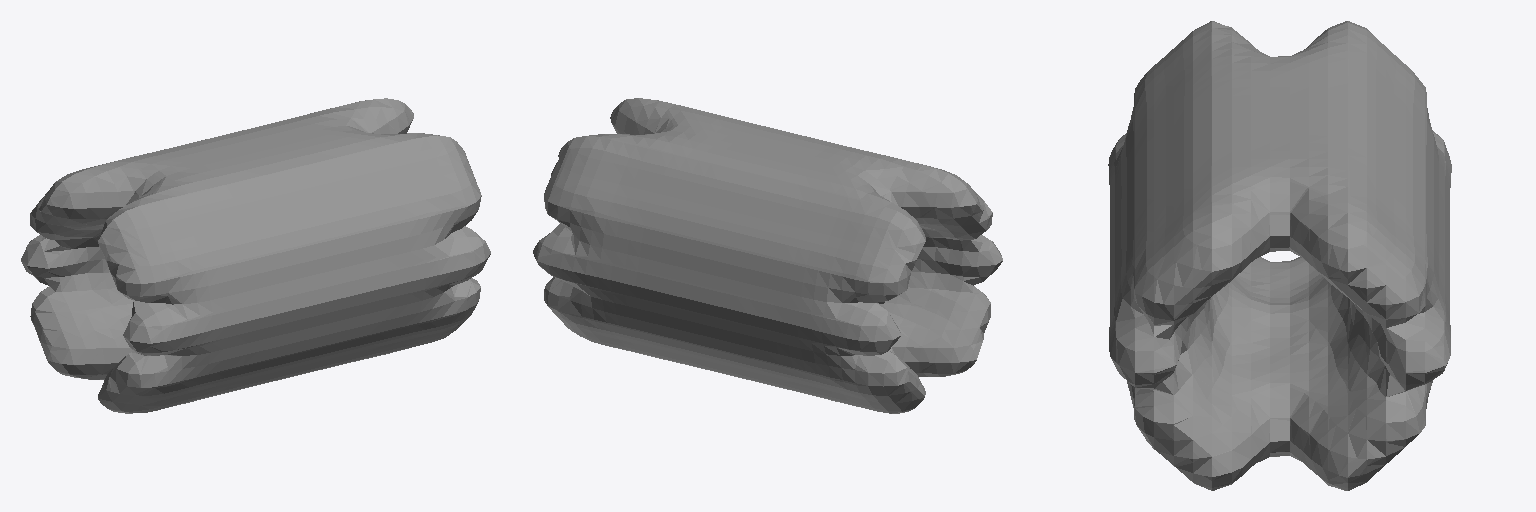
URDF robot description (cube.urdf):
<?xml version="0.0" ?> 
<robot name="cube.urdf"> 
<link name="legobrick"> 
<contact> 
<lateral_friction value="5.0"/> 
<rolling_friction value="0.0"/> 
<contact_cfm value="0.0"/> 
<contact_erp value="1.0"/> 
</contact> 
<inertial> 
<origin rpy="0 0 0" xyz="0.0 0.0 0.0"/> 
<mass value=".01"/> 
<inertia ixx="1" ixy="0" ixz="0" iyy="1" iyz="0" izz="1"/> 
</inertial> 
<visual> 
<origin rpy="1.570796 0 0" xyz="-0.04411268714127192 0.04405672260694706 -0.04402911940820989"/> 
<geometry> 
<mesh filename="N14_2.obj" scale="0.0009154876991146778 0.0009154876991146778 0.0009154876991146778"/> 
</geometry> 
<material name="yellow"> 
<color rgba="0.6 0.6 0.6 1"/> 
</material> 
</visual> 
<collision> 
<origin rpy="1.570796 0 0" xyz="-0.04411268714127192 0.04405672260694706 -0.04402911940820989"/> 
<geometry> 
<mesh filename="N14_2.obj" scale="0.0009154876991146778 0.0009154876991146778 0.0009154876991146778"/> 
</geometry> 
</collision> 
</link> 
</robot>

--- Render facts (derived) ---
Views: 3 orthographic renders of the robot side by side, from view 1: azimuth 30°, elevation 25°; view 2: azimuth 150°, elevation 25°; view 3: azimuth 270°, elevation 25°.
Model cube.urdf with 1 links and 0 joints (none), rooted at legobrick, posed all joints at 0.
Visible links, largest first — view 1: legobrick; view 2: legobrick; view 3: legobrick.
Boxes of the visible links, bbox=[...] form: legobrick: bbox=[21, 98, 490, 413]; legobrick: bbox=[533, 98, 1002, 413]; legobrick: bbox=[1108, 21, 1451, 490].
Size in the robot's own frame: 0.0915 by 0.056 by 0.0512 metres.
1 mesh visuals loaded from 1 distinct referenced files (1 OBJ).
